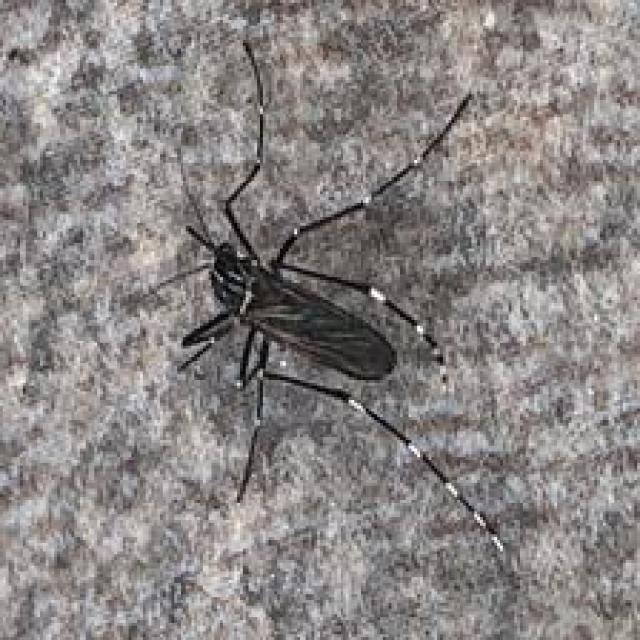Aedes albopictus: (147, 37, 507, 554)
